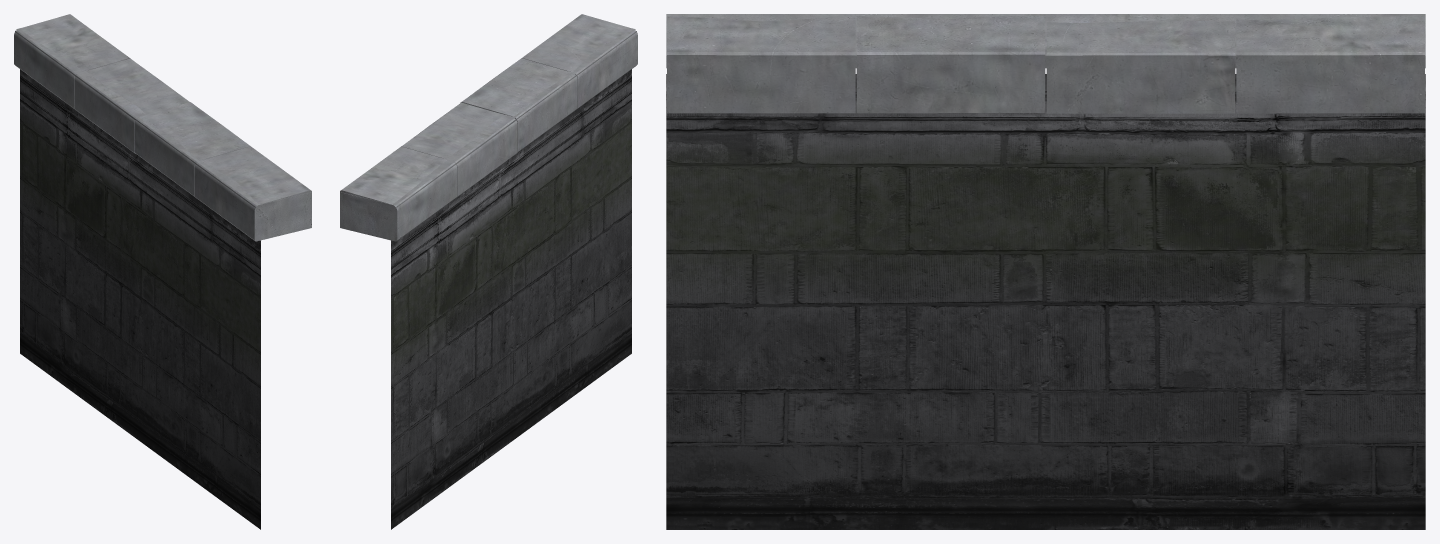
Rendered from SM_Banchina_Mod4m.fbx.
The picture shows the model from 3 angles, left to right: view 1: azimuth 30°, elevation 25°; view 2: azimuth 150°, elevation 25°; view 3: azimuth 270°, elevation 25°; orthographic projection. The views are drawn at different scales.
Parts seen in each view (by area): view 1: SM_Banchina_Mod4m; view 2: SM_Banchina_Mod4m; view 3: SM_Banchina_Mod4m.
Part boxes in pixels (x1,y1,x2,y2): SM_Banchina_Mod4m: (14,14,311,529); SM_Banchina_Mod4m: (340,14,637,529); SM_Banchina_Mod4m: (666,14,1425,529).
Size of what is drawn, in the model's own units: 55 by 400 by 300.
Materials: 2 (2 with a texture image).
